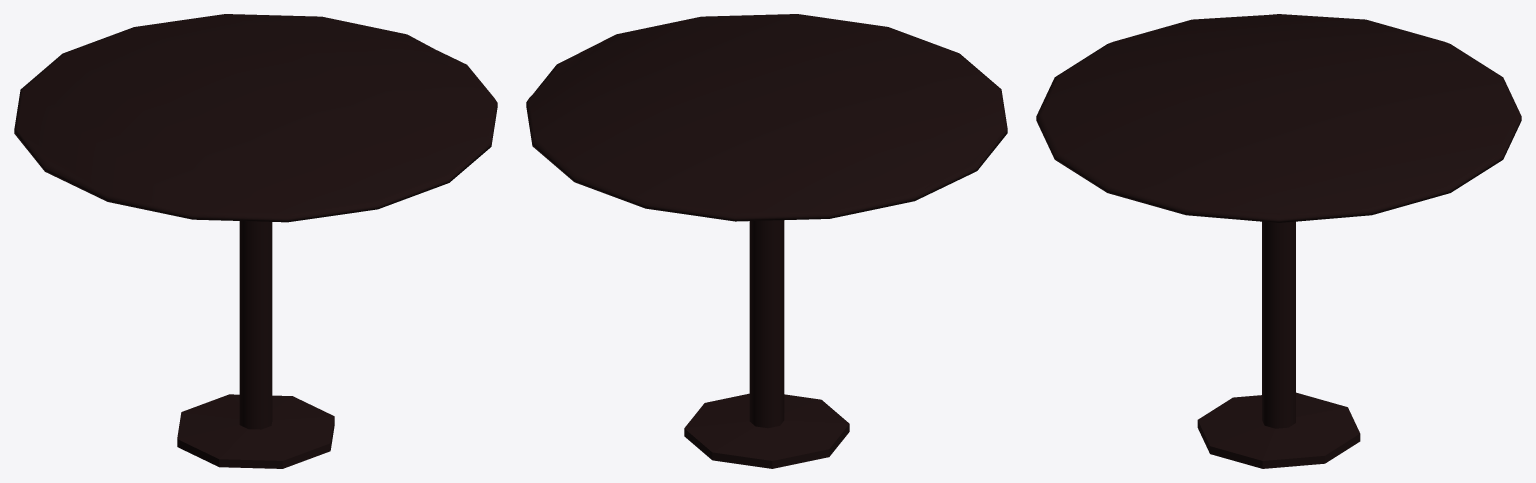
Rendered from RoundTable.FBX.
3 views of the same model, side by side, from view 1: azimuth 30°, elevation 25°; view 2: azimuth 150°, elevation 25°; view 3: azimuth 270°, elevation 25° (orthographic).
Visible parts, largest first — view 1: Cylinder033; view 2: Cylinder033; view 3: Cylinder033.
Boxes of the visible parts, x1,y1,x2,y2 form: Cylinder033: [14, 14, 497, 468]; Cylinder033: [526, 14, 1007, 468]; Cylinder033: [1036, 14, 1521, 468].
Bounding box in the file's own units: 25.47 × 18.54 × 25.47.
Materials: 1 (1 with a texture image).
